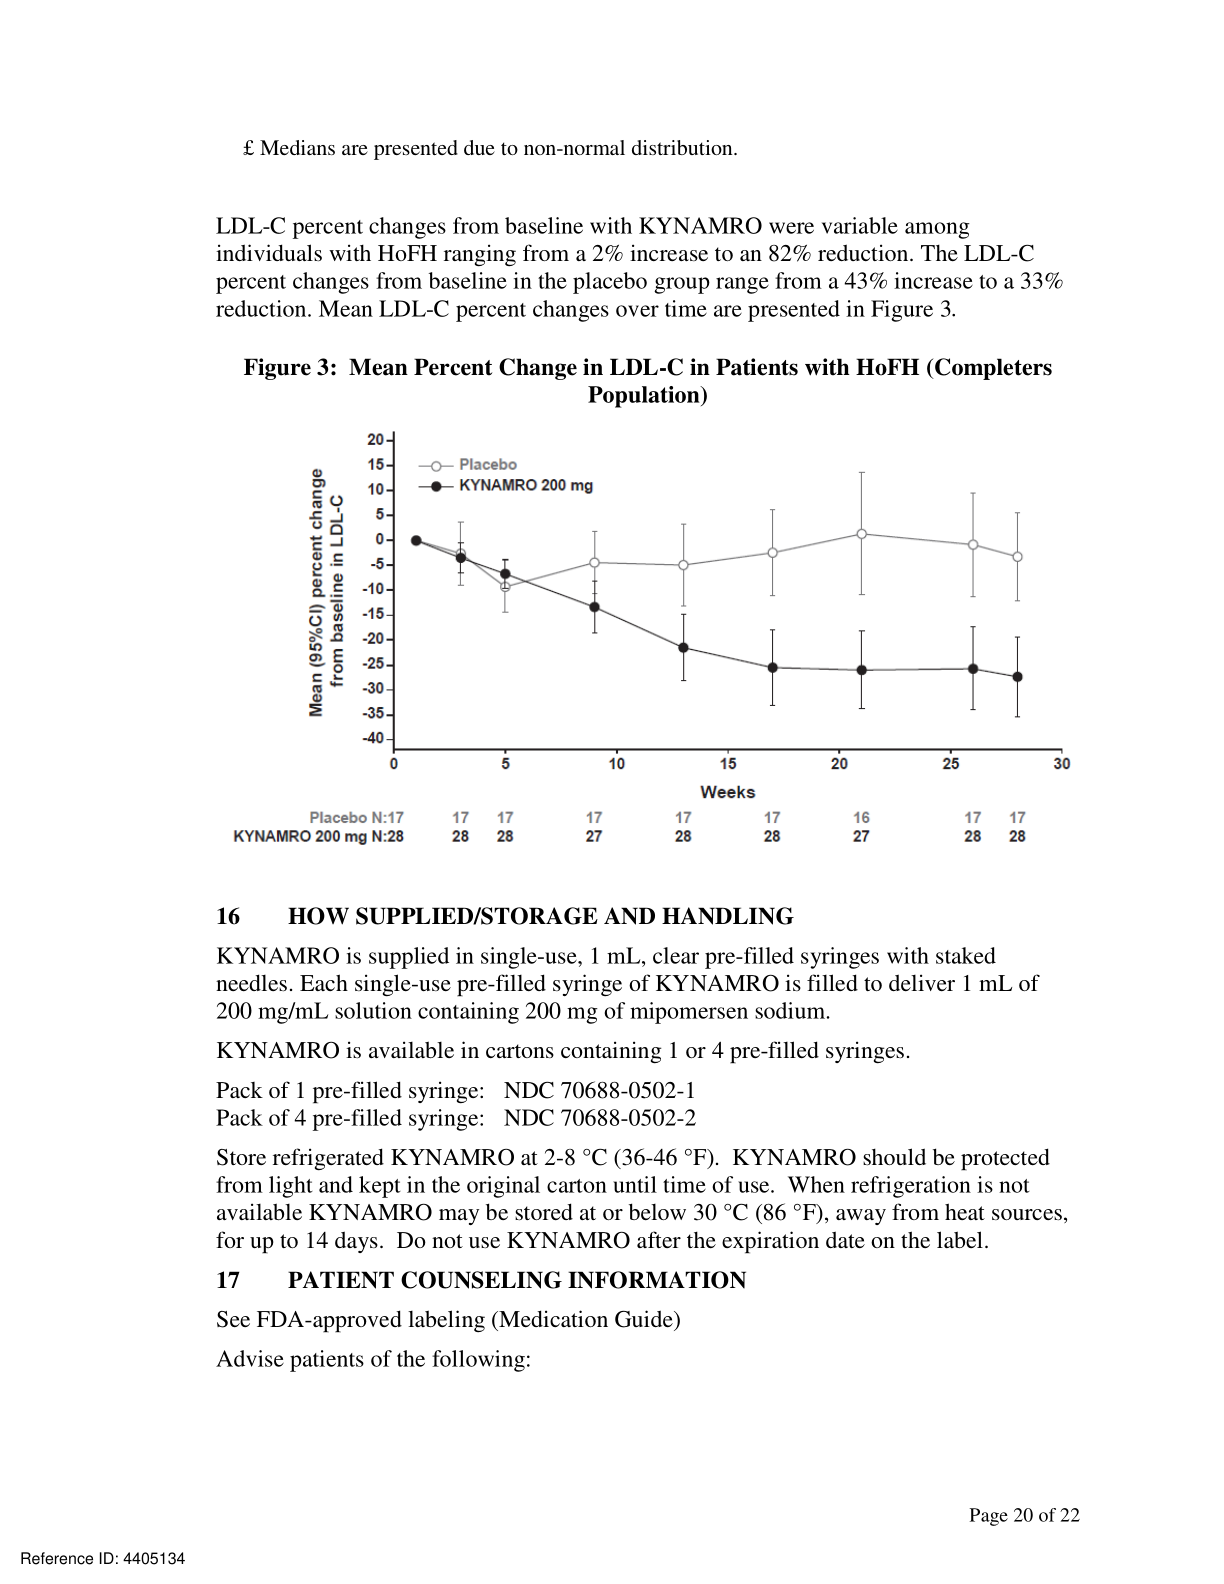nolines: (224, 809, 1031, 847)
